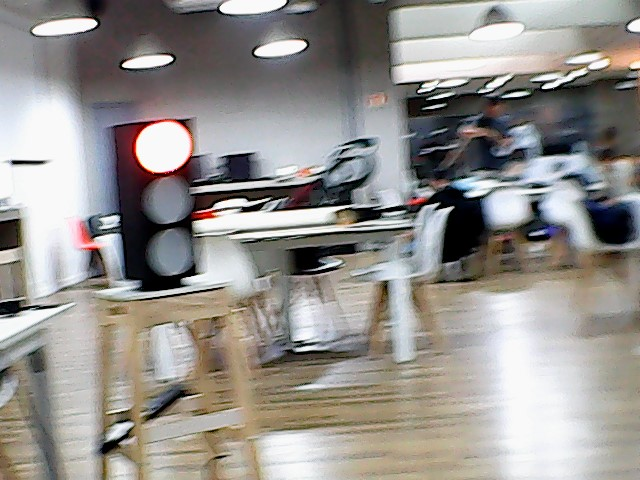vermelho: (107, 115, 207, 280)
